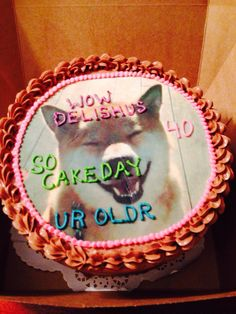doge: (36, 80, 173, 217)
